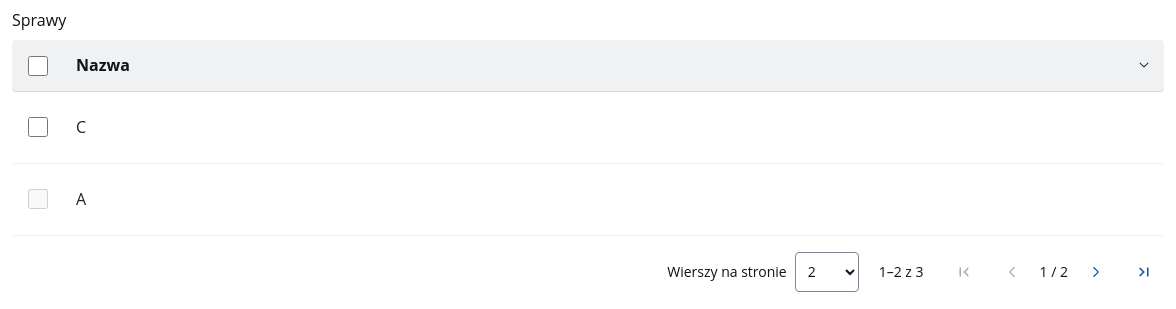
Test: portal data table › sorts, pages and selects enabled visible rows only
The image size is (1176, 309).
Click the button "Nazwa". click: (103, 65)
box: [76, 53, 1152, 77]
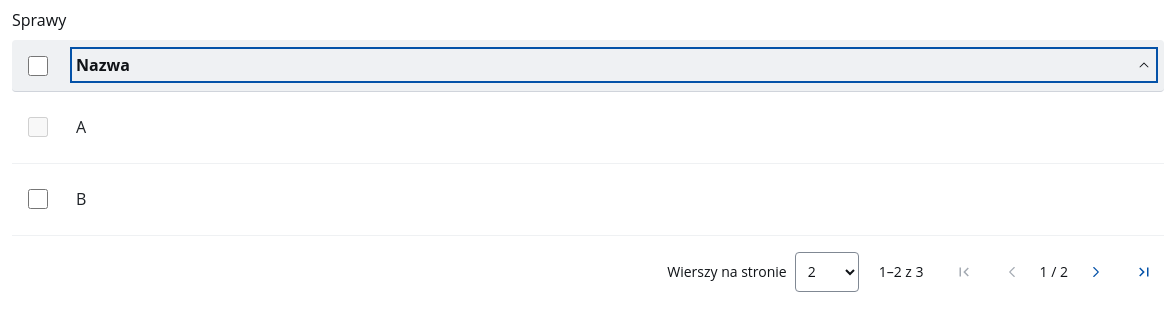
Check: the row "A" is shown, box [12, 92, 1164, 164]
Click the checkbox named "Zaznacz wszystkie wiersze na tej stronie". click: (38, 66)
box: [28, 56, 48, 76]
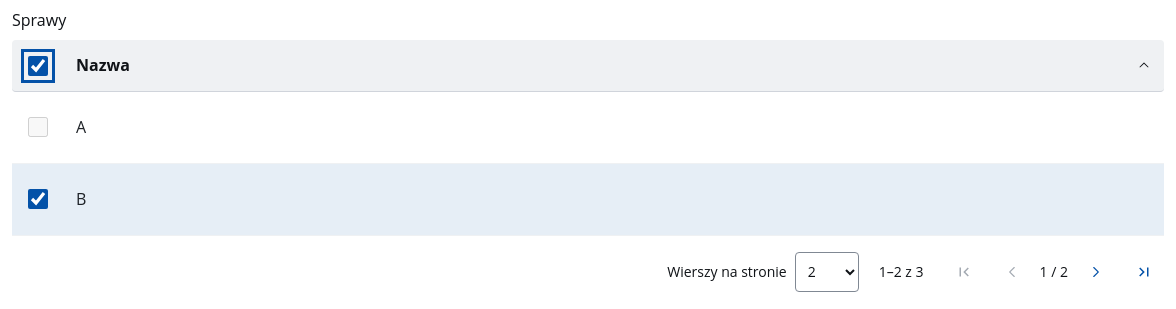
Check: the checkbox named "Zaznacz A" is disabled, box [28, 118, 48, 138]
Click the button named "Następna strona". click: (1096, 272)
box: [1076, 252, 1116, 292]
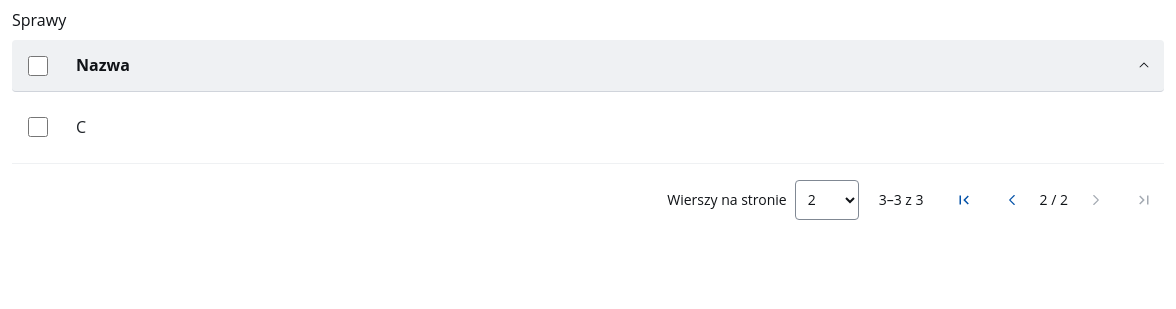
Check: the cell "C" is shown, box [64, 92, 1164, 164]
